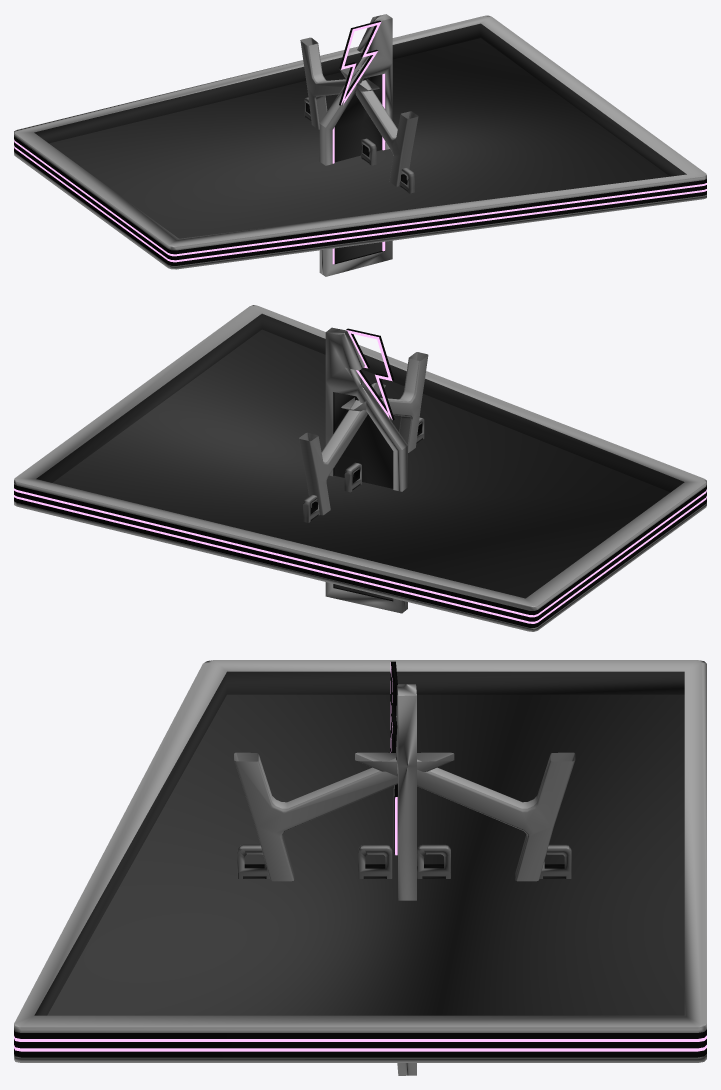
The model's file is Fuel_Station.fbx.
3 views of the same model, one above another, from view 1: azimuth 30°, elevation 25°; view 2: azimuth 150°, elevation 25°; view 3: azimuth 270°, elevation 25° (orthographic). The views are drawn at different scales.
Visible parts, largest first — view 1: unityexport_ECP_Env_Emission_Mat_0.003, unityexport_ECP_Env_Emission_Mat_0.002, unityexport_ECP_Env_Emission_Mat_0.004, unityexport_ECP_Env_Emission_Mat_0.001; view 2: unityexport_ECP_Env_Emission_Mat_0.003, unityexport_ECP_Env_Emission_Mat_0.002, unityexport_ECP_Env_Emission_Mat_0.001, unityexport_ECP_Env_Emission_Mat_0.004; view 3: unityexport_ECP_Env_Emission_Mat_0.003, unityexport_ECP_Env_Emission_Mat_0.001, unityexport_ECP_Env_Emission_Mat_0.004, unityexport_ECP_Env_Emission_Mat_0.002.
Part boxes in pixels (bbox=[...]): unityexport_ECP_Env_Emission_Mat_0.003: bbox=[14, 15, 706, 269]; unityexport_ECP_Env_Emission_Mat_0.002: bbox=[319, 14, 392, 276]; unityexport_ECP_Env_Emission_Mat_0.004: bbox=[304, 67, 418, 186]; unityexport_ECP_Env_Emission_Mat_0.001: bbox=[300, 37, 414, 193]; unityexport_ECP_Env_Emission_Mat_0.003: bbox=[14, 305, 706, 631]; unityexport_ECP_Env_Emission_Mat_0.002: bbox=[325, 327, 407, 613]; unityexport_ECP_Env_Emission_Mat_0.001: bbox=[299, 382, 424, 515]; unityexport_ECP_Env_Emission_Mat_0.004: bbox=[303, 352, 428, 522]; unityexport_ECP_Env_Emission_Mat_0.003: bbox=[14, 660, 706, 1062]; unityexport_ECP_Env_Emission_Mat_0.001: bbox=[237, 752, 575, 881]; unityexport_ECP_Env_Emission_Mat_0.004: bbox=[234, 752, 571, 881]; unityexport_ECP_Env_Emission_Mat_0.002: bbox=[390, 661, 416, 1075].
Bounding box in the file's own units: 1852 × 897 × 1476.
